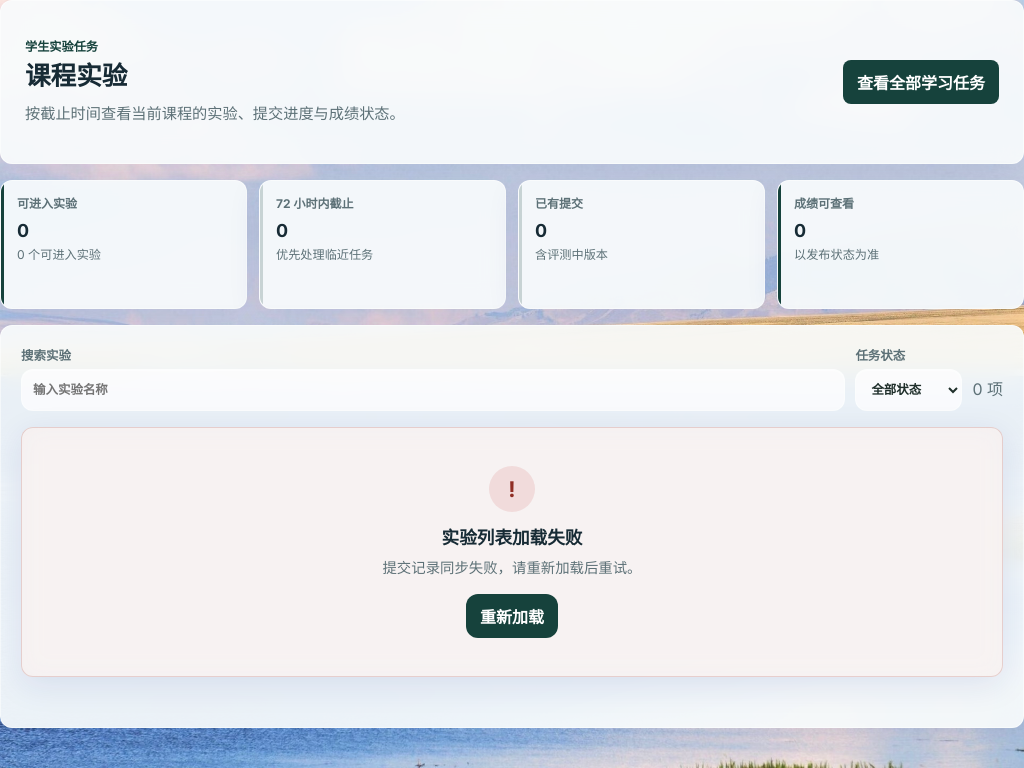
LabStudentListView visual task-list contract › shows a retryable failure when any submission history cannot be synchronized
The width and height of the screenshot is (1024, 768).
Click the button with test id "retry-lab-list" at (512, 616), box [466,594,558,638]
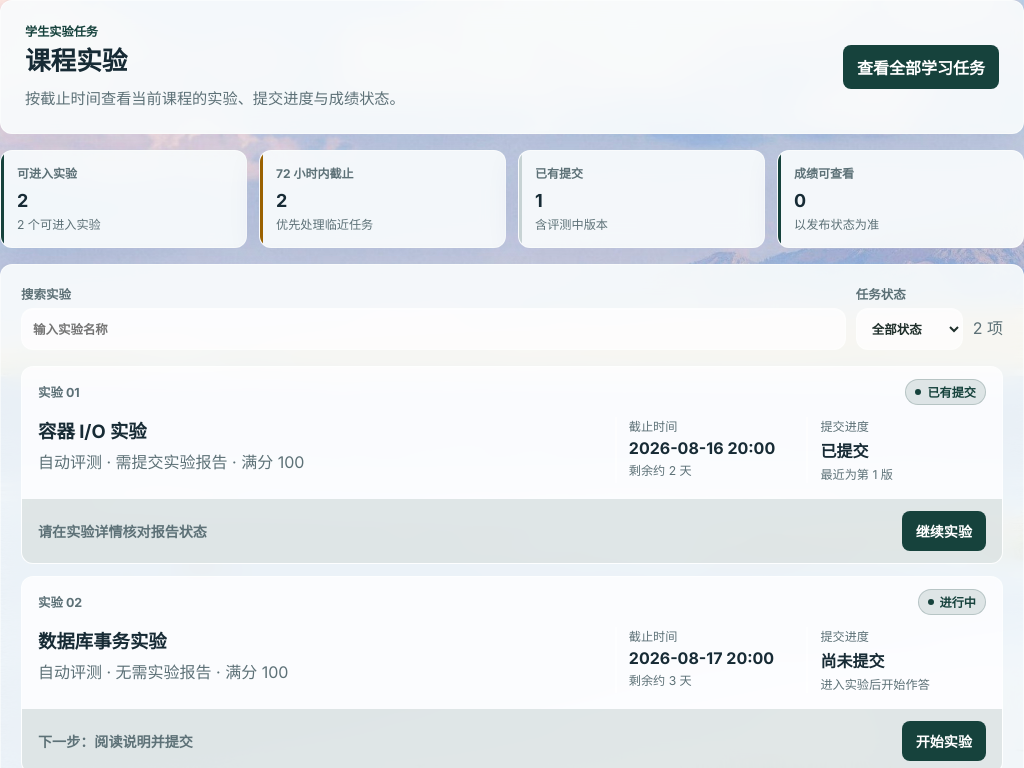
Expected: the text "实验列表加载失败" is gone
Expected: the text "数据库事务实验" is shown, [38,630,167,652]
